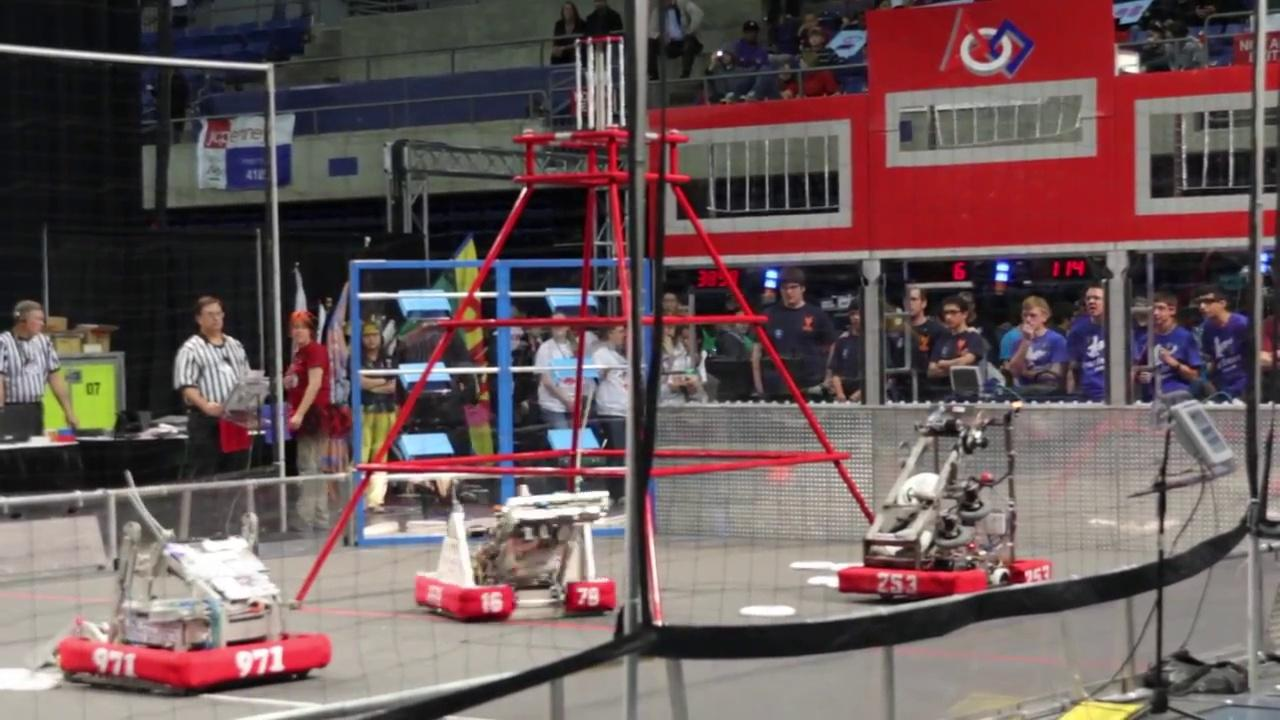robot: (50, 514, 335, 694), (828, 402, 1054, 605), (409, 493, 620, 623)
